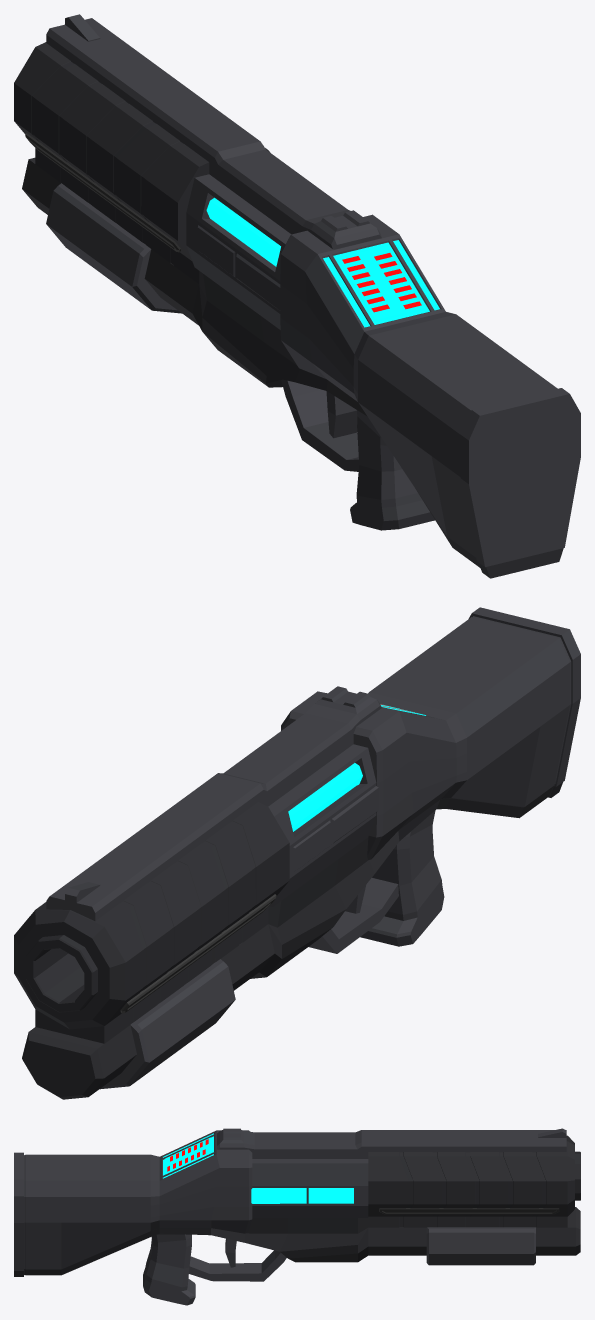
Rendered from shotgun_TEST_model.glb.
3 renders of one model, top to bottom at view 1: azimuth 30°, elevation 25°; view 2: azimuth 150°, elevation 25°; view 3: azimuth 270°, elevation 25°, orthographic. The views are drawn at different scales.
Parts seen in each view (by area): view 1: baza, dvijenie, shell, kurok; view 2: baza, dvijenie, shell; view 3: baza, dvijenie, kurok.
Boxes of the visible parts, x1,y1,x2,y2 form: baza: [14, 14, 580, 578]; dvijenie: [46, 183, 181, 313]; shell: [206, 197, 280, 266]; kurok: [326, 391, 357, 438]; baza: [14, 607, 580, 1099]; dvijenie: [100, 959, 235, 1089]; shell: [288, 763, 362, 831]; baza: [14, 1128, 580, 1305]; dvijenie: [426, 1227, 535, 1265]; kurok: [225, 1238, 236, 1267].
Bounding box in the file's own units: 0.1921 × 0.4502 × 1.38.
